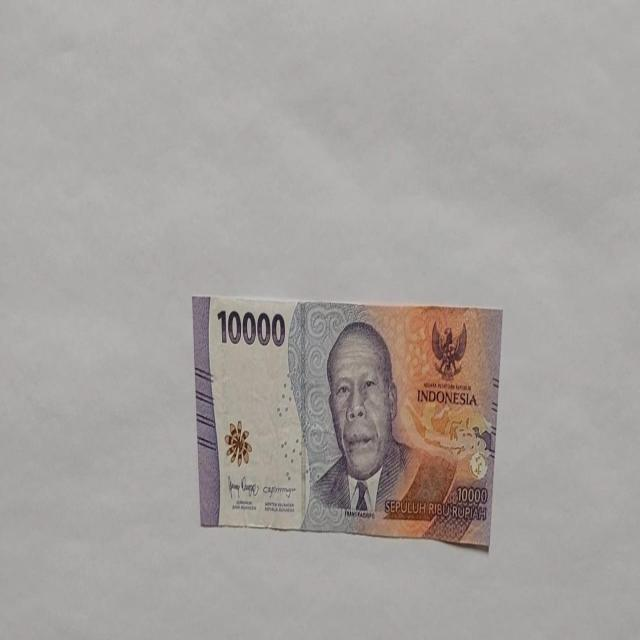Kertas: (192, 294, 502, 550)
